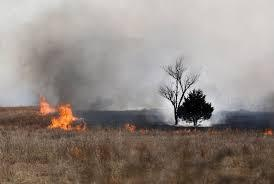fire: (34, 94, 89, 130), (120, 119, 144, 133)
